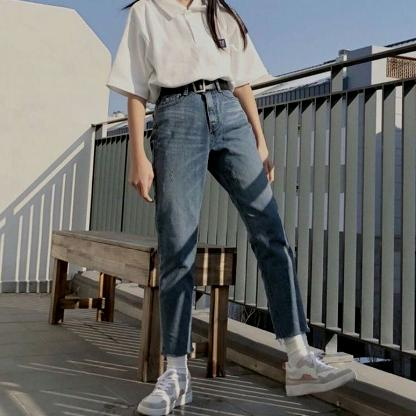dress: (148, 78, 308, 354), (107, 0, 275, 102)
